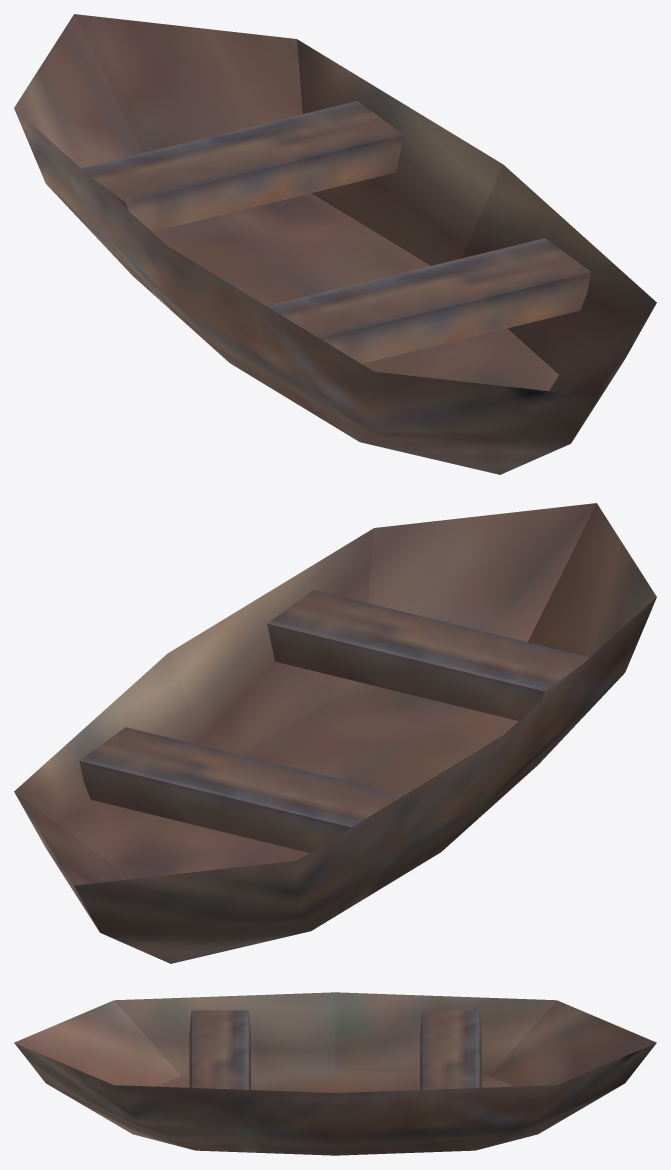
The model's file is VENE.fbx.
3 views of the same model, one above another, from view 1: azimuth 30°, elevation 25°; view 2: azimuth 150°, elevation 25°; view 3: azimuth 270°, elevation 25° (orthographic). The views are drawn at different scales.
Parts seen in each view (by area): view 1: VENE; view 2: VENE; view 3: VENE.
Part boxes in pixels (x1,y1,x2,y2): VENE: (14,14,656,474); VENE: (14,503,656,963); VENE: (14,992,656,1155).
Size of the model in its own units: 2.07 by 0.8768 by 5.57.
